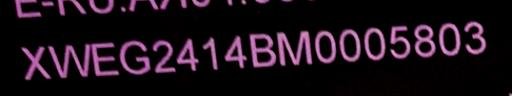letter: (46, 41, 92, 78), (274, 28, 314, 68), (16, 41, 50, 80), (118, 37, 152, 74), (248, 30, 278, 70), (462, 18, 488, 58), (337, 24, 363, 64), (434, 23, 462, 60), (90, 39, 118, 76), (360, 24, 386, 61), (388, 22, 412, 61), (221, 34, 247, 70), (150, 36, 176, 72), (199, 34, 223, 72), (172, 36, 198, 70), (412, 23, 436, 59), (314, 28, 336, 64)
